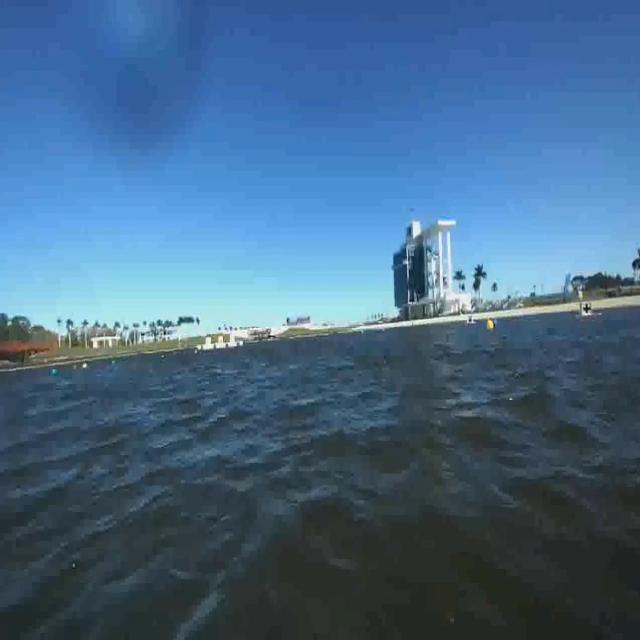green-buoy: (52, 366, 61, 376)
yellow-buoy: (487, 318, 495, 331)
